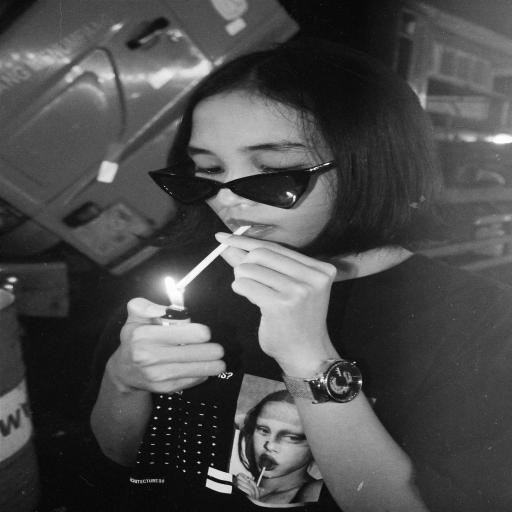membakar rokok: (102, 147, 326, 346)
